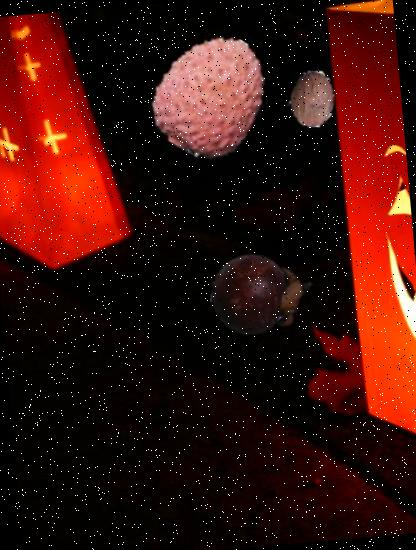Cocos: (280, 69, 342, 130)
Lychee: (146, 28, 280, 162)
Mangostan: (206, 241, 318, 352)
